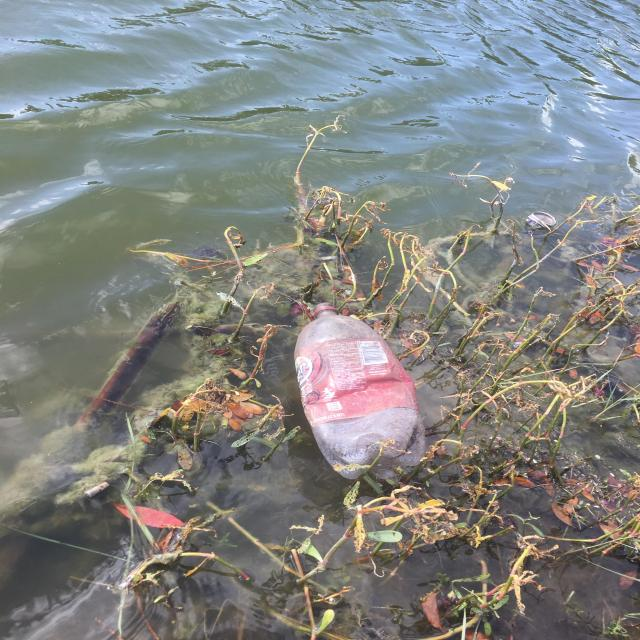litter: (288, 291, 428, 486)
